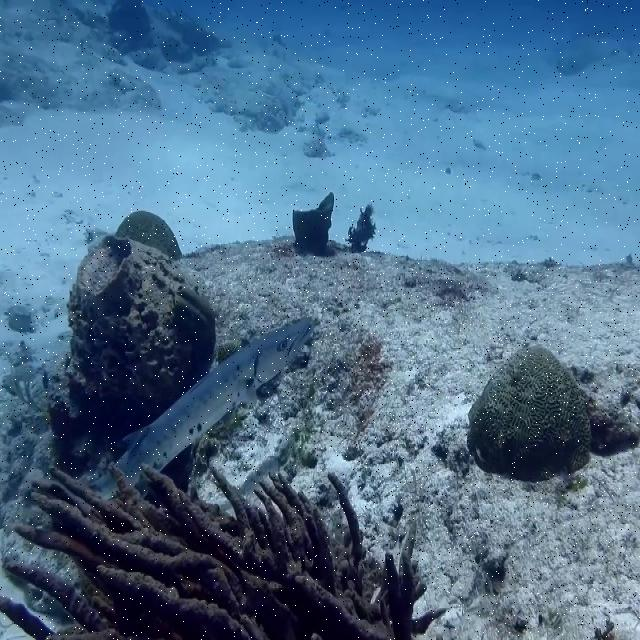aquatic plants: (344, 202, 377, 252)
fish: (92, 317, 315, 499)
reefs: (2, 460, 450, 639)
sea-floor: (50, 214, 216, 476), (469, 343, 590, 482), (293, 193, 335, 251)
